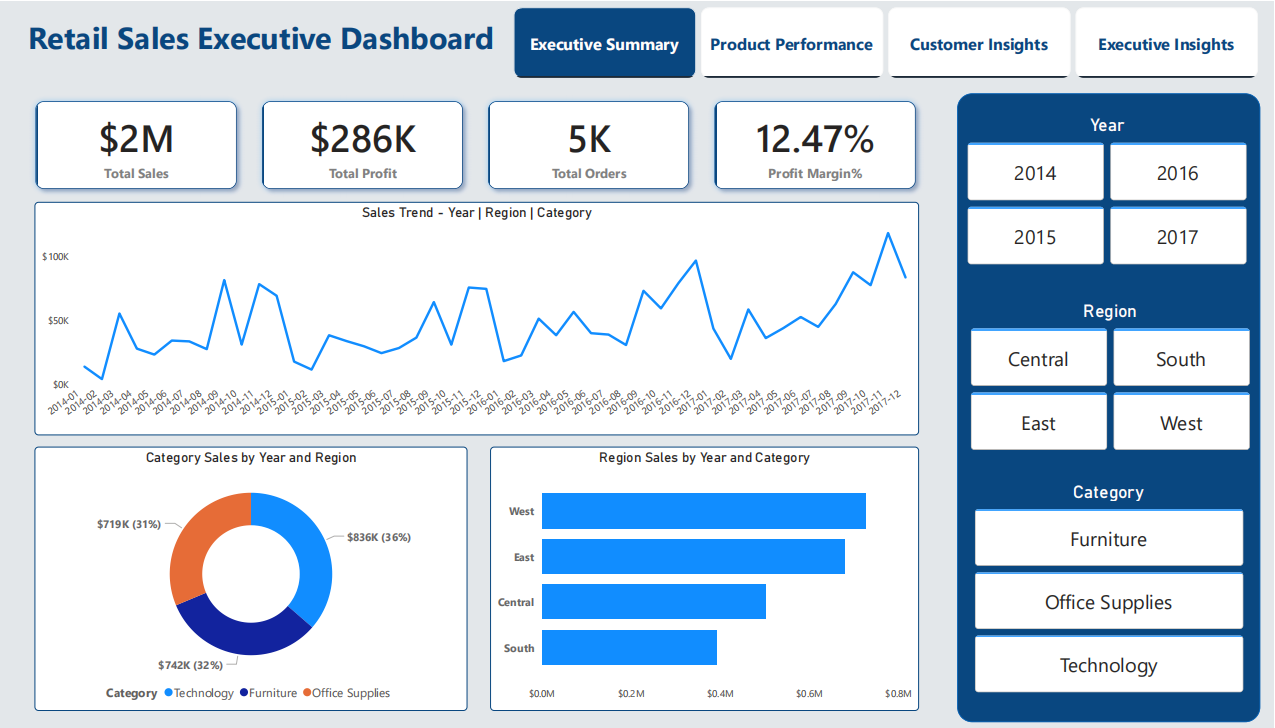

What the dashboard file says about the page in this screenshot:
{"tool":"powerbi","page":{"name":"Executive Summary","canvas":[1280,720],"ordinal":0},"visuals":[{"type":"cardVisual","fields":{"Data":["Orders.Total Sales","Orders.Total Profit","Orders.Total Orders","Orders.Profit Margin%"]},"box":[43.9,31.6,1178.7,129],"z":0},{"type":"lineChart","title":"Sales Trend","fields":{"Y":["Orders.Total Sales"],"Category":["Date Table.Year-Month"]},"box":[85.1,160.5,544.8,266.2],"z":1000},{"type":"clusteredBarChart","title":"Sales by Region","fields":{"Category":["Regions.Region"],"Y":["Orders.Total Sales"]},"box":[757.5,160.5,429.5,266.2],"z":2000},{"type":"donutChart","fields":{"Category":["Products.Category"],"Y":["Orders.Total Sales"]},"box":[85,437,430,266],"z":3000},{"type":"advancedSlicerVisual","fields":{"Values":["Date Table.Year"]},"box":[629.8,432.2,598.3,89.2],"z":4000},{"type":"advancedSlicerVisual","fields":{"Values":["Regions.Region"]},"box":[632.6,526.9,595.5,93.3],"z":5000},{"type":"advancedSlicerVisual","fields":{"Values":["Products.Category"]},"box":[634,626.7,588.7,93.3],"z":6000},{"type":"textbox","box":[0,0,524.2,41.2],"z":9000},{"type":"pageNavigator","box":[492.6,0,787.7,49.4],"z":9001}]}

Visuals, with their boxes in screenshot pixels (x1, y1, x2, y2), scaled from the page's 1280x720 canvas onto the 1275x728 screenshot:
cardVisual - Orders.Total Sales x Orders.Total Profit: bbox=(44, 32, 1218, 162)
"Sales Trend" lineChart: bbox=(85, 162, 627, 431)
"Sales by Region" clusteredBarChart: bbox=(755, 162, 1182, 431)
donutChart - Products.Category x Orders.Total Sales: bbox=(85, 442, 513, 711)
advancedSlicerVisual - Date Table.Year: bbox=(627, 437, 1223, 527)
advancedSlicerVisual - Regions.Region: bbox=(630, 533, 1223, 627)
advancedSlicerVisual - Products.Category: bbox=(632, 634, 1218, 727)
textbox: bbox=(0, 0, 522, 42)
pageNavigator: bbox=(491, 0, 1274, 50)
